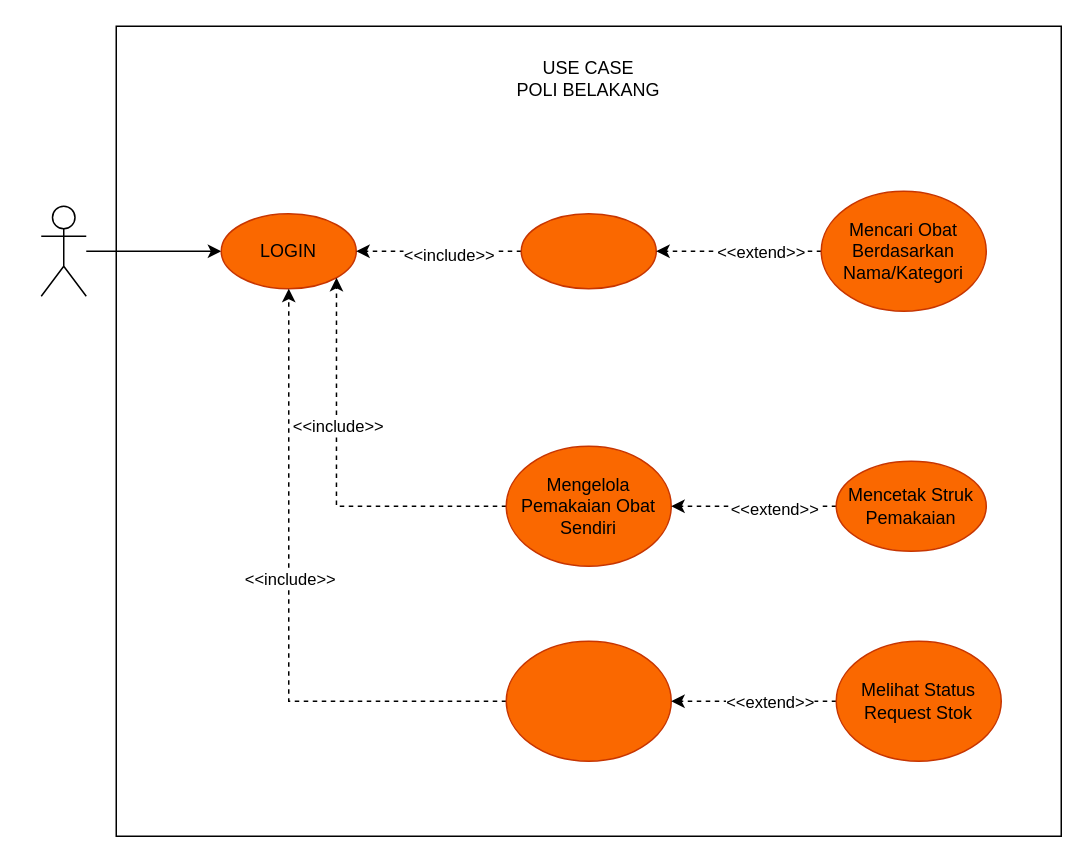
Image size: 1088x863. Some labels were removed from this diagram. Each missing label, with the box of its shape:
Melihat Stok Obat Sendiri: (520, 212, 656, 289)
Membuat Request Stok Internal: (505, 640, 671, 761)
Poli Belakang: (40, 205, 86, 296)
